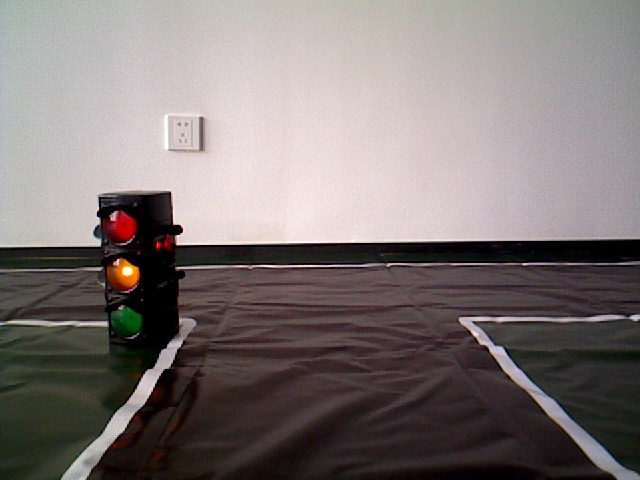yellow: (102, 190, 175, 358)
